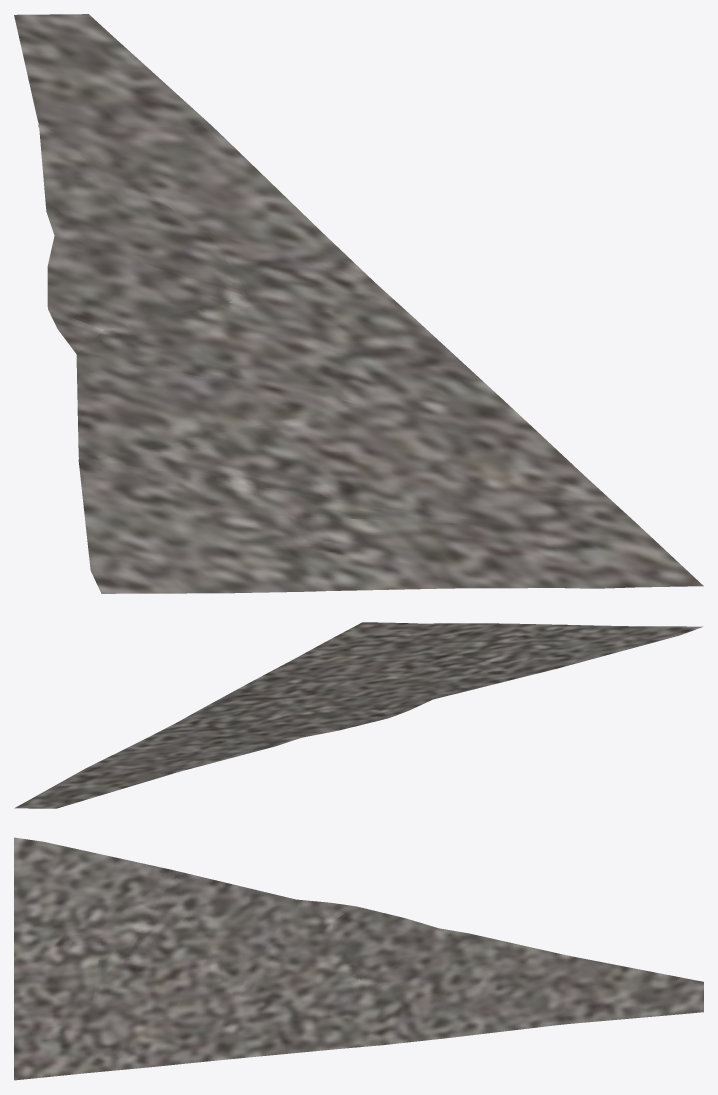
3 renders of one model, top to bottom at view 1: azimuth 30°, elevation 25°; view 2: azimuth 150°, elevation 25°; view 3: azimuth 270°, elevation 25°, orthographic. The views are drawn at different scales.
Size of the model in its own units: 0.4735 by 0.1046 by 0.8374.
Materials: 1 (1 with a texture image).
